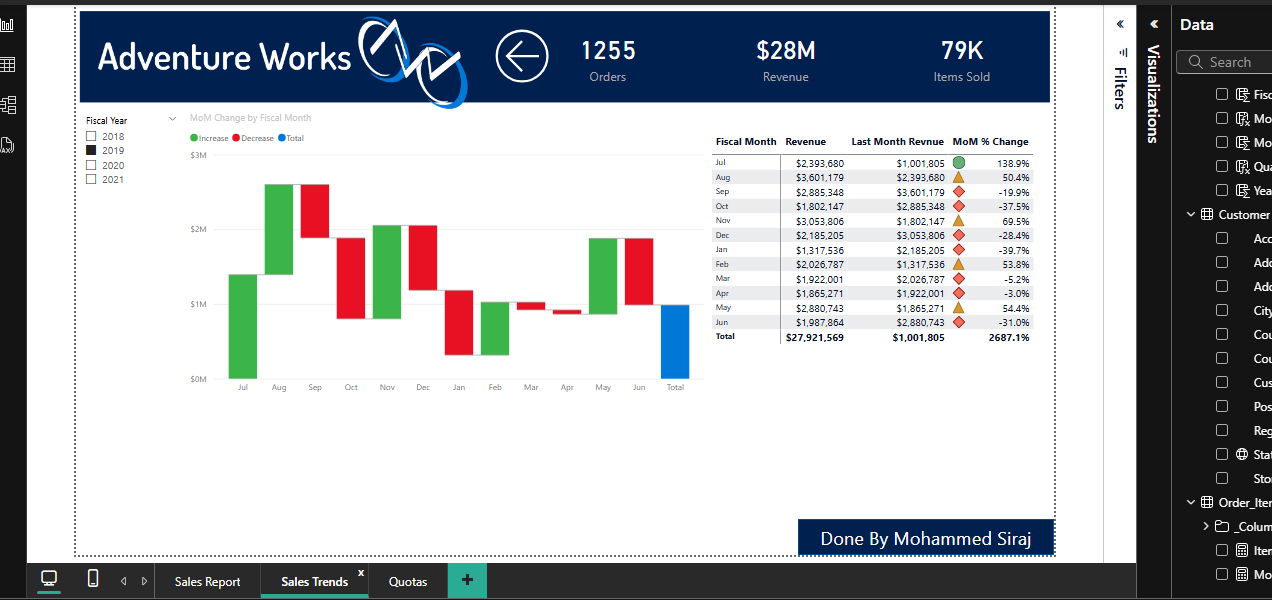

The page's visual inventory and layout, read from the dashboard file:
{"tool":"powerbi","page":{"name":"Sales Trends","canvas":[1280,720],"ordinal":1},"visuals":[{"type":"image","box":[0,0,1280,143.1],"z":0},{"type":"card","fields":{"Values":["Order_Items.Orders"]},"box":[594.6,16.3,203.6,102.4],"z":1000},{"type":"card","fields":{"Values":["Order_Items.Revenue"]},"box":[827.3,16.3,203.6,102.4],"z":2000},{"type":"card","fields":{"Values":["Order_Items.Items Sold"]},"box":[1057.7,16.3,203.6,102.4],"z":3000},{"type":"slicer","fields":{"Values":["Calendar.Fiscal Year"]},"box":[0,137.8,143.6,160],"z":4000},{"type":"actionButton","box":[540.7,23.5,99.9,86.7],"z":5000},{"type":"waterfallChart","fields":{"Y":["Orders.Months Revenue Change"],"Category":["Calendar.Fiscal Month"]},"box":[144,138.1,683.3,379.1],"z":6000},{"type":"pivotTable","fields":{"Rows":["Calendar.Fiscal Month"],"Values":["Order_Items.Revenue","Orders.Last Month Revnue","Order_Items.MoM % Change"]},"box":[827.3,163.1,452.6,354.1],"z":7000},{"type":"shape","box":[944.8,673,335,47],"z":8000}]}

Visuals, with their boxes on the page's 1280x720 design canvas (x1, y1, x2, y2). These are canvas units, not pixel positions in the 1272x600 screenshot, which may show the page scaled, cropped or inside an application window:
image: (left=0, top=0, right=1280, bottom=143)
card - Order_Items.Orders: (left=595, top=16, right=798, bottom=119)
card - Order_Items.Revenue: (left=827, top=16, right=1031, bottom=119)
card - Order_Items.Items Sold: (left=1058, top=16, right=1261, bottom=119)
slicer - Calendar.Fiscal Year: (left=0, top=138, right=144, bottom=298)
actionButton: (left=541, top=24, right=641, bottom=110)
waterfallChart - Orders.Months Revenue Change x Calendar.Fiscal Month: (left=144, top=138, right=827, bottom=517)
pivotTable - Calendar.Fiscal Month x Order_Items.Revenue: (left=827, top=163, right=1280, bottom=517)
shape: (left=945, top=673, right=1280, bottom=720)
